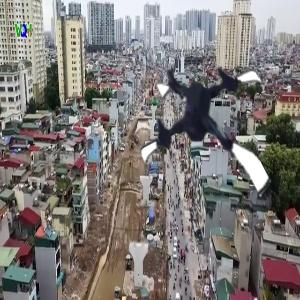drone: (131, 54, 292, 215)
